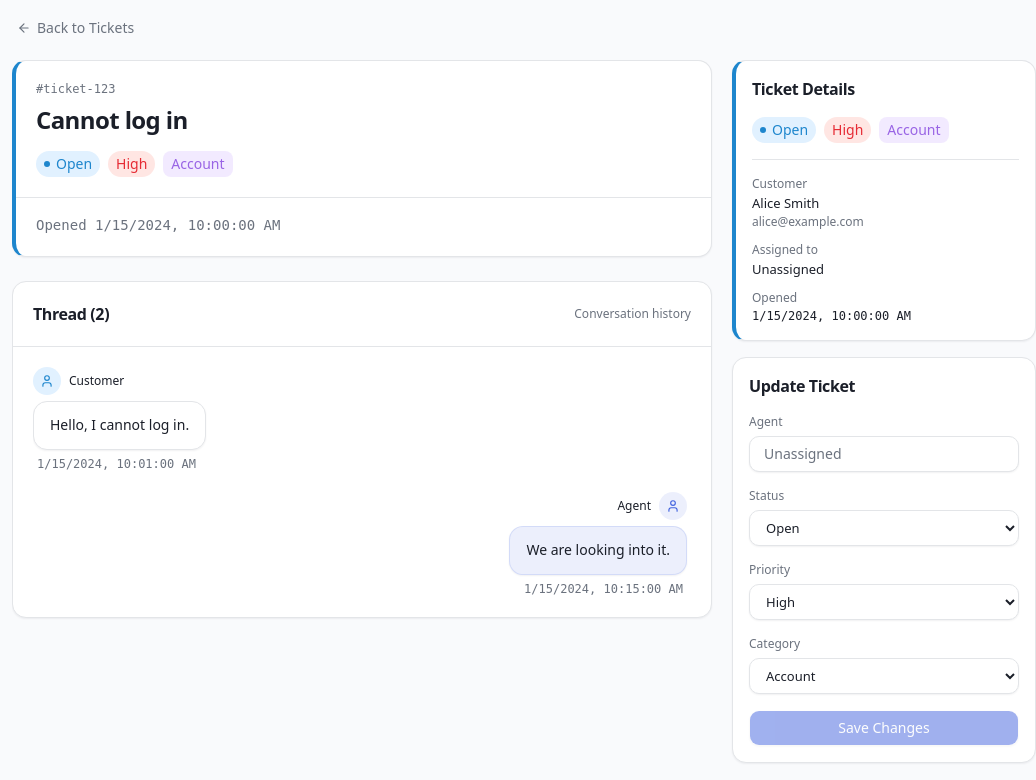
Test: TicketDetail page › Save Changes becomes enabled after changing the category
Expected: the heading "Cannot log in" is shown, [36,103,188,136]
Select "Payments" in the dropdown labelled "Category" at (884, 676), box [749,658,1019,694]
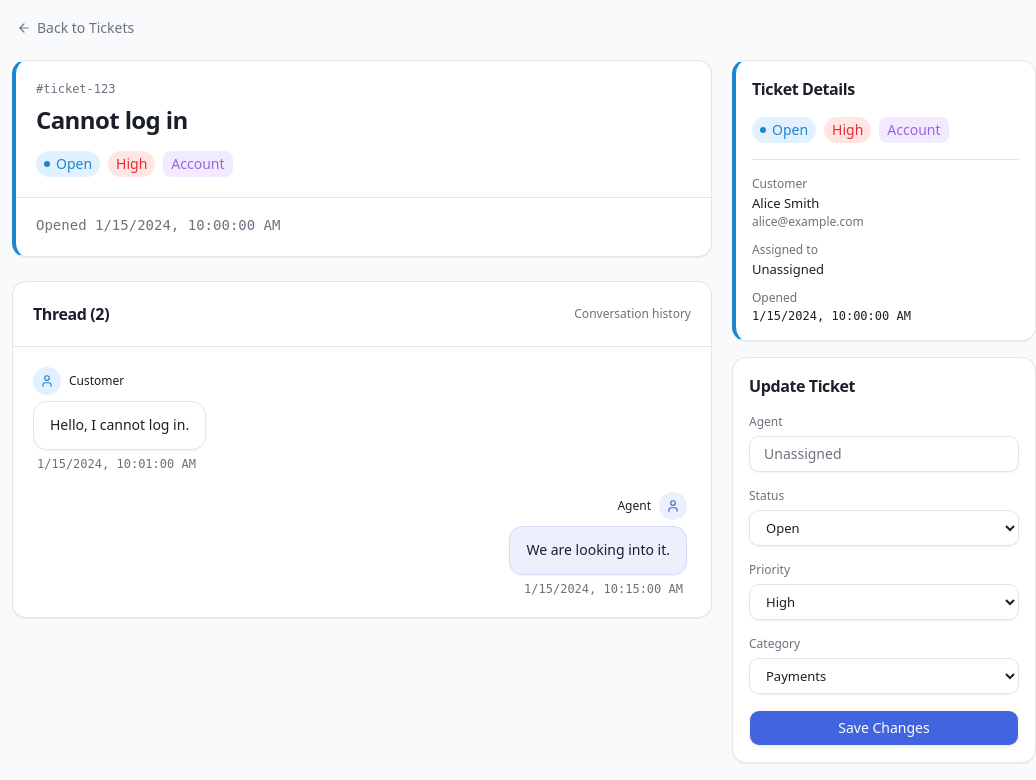
Now the button "Save Changes" is enabled, box [749,710,1019,746]
